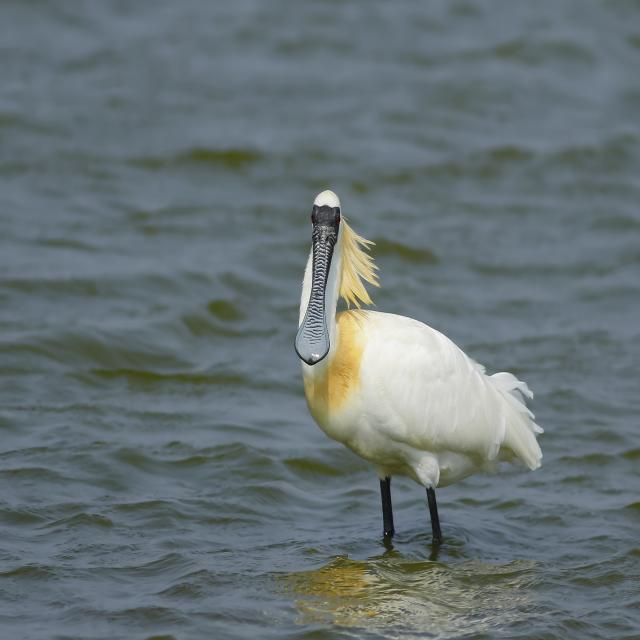Black-faced spoonbill: (296, 191, 541, 543)
